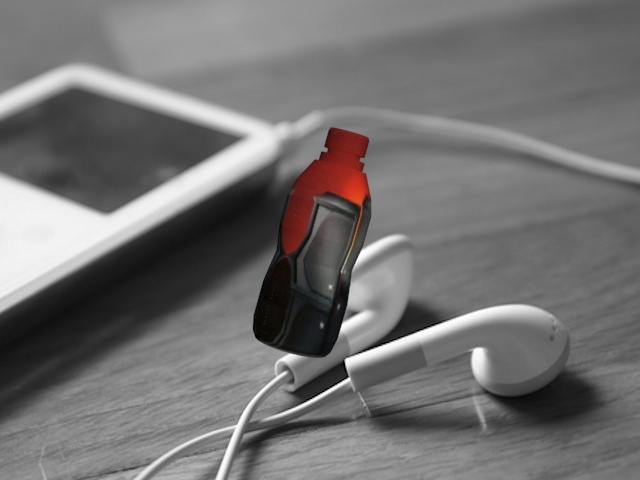bottle: (249, 121, 385, 360)
